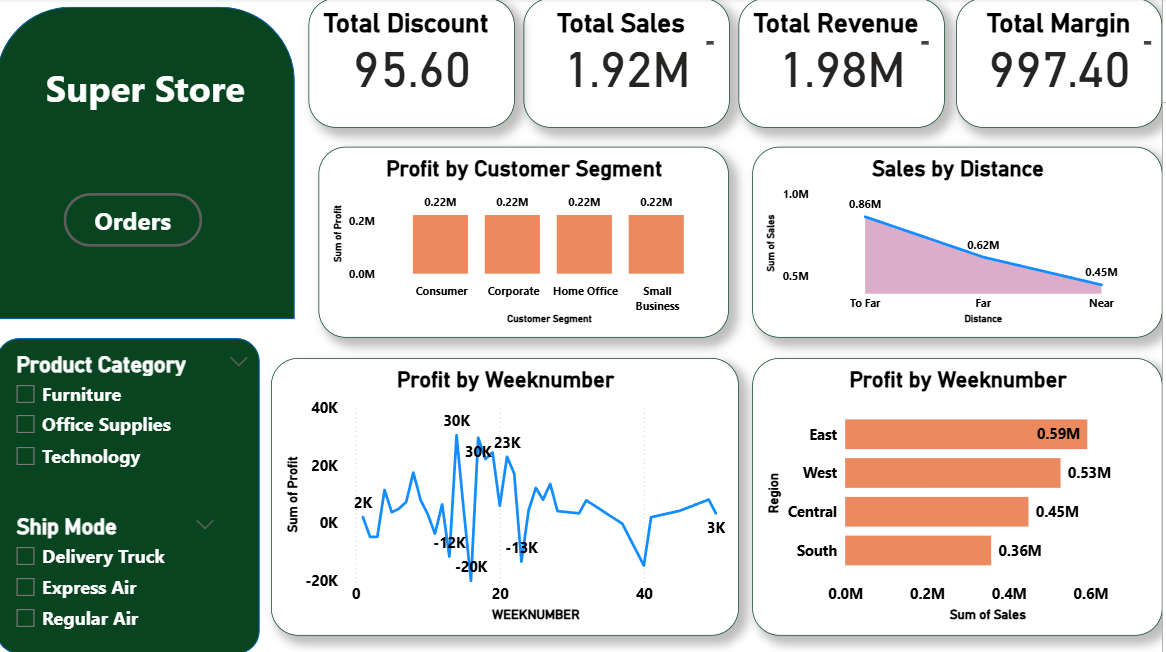

This screenshot's page, from the dashboard's own definition file:
{"tool":"powerbi","page":{"name":"Page 1","canvas":[1280,720],"ordinal":0},"visuals":[{"type":"shape","box":[0,373.2,289.5,347.2],"z":0},{"type":"card","fields":{"Values":["Orders.Totalsales"]},"box":[579.1,0,226.4,142.7],"z":1},{"type":"textbox","title":"Total Sales","box":[579.1,9.6,214.1,46.7],"z":2},{"type":"card","fields":{"Values":["Orders.Totalrevenue"]},"box":[815.1,0,226.4,142.7],"z":3},{"type":"textbox","title":"Total Revenue","box":[815.1,9.6,214.1,46.7],"z":4},{"type":"card","fields":{"Values":["Orders.Totalpromargin"]},"box":[1053.9,0,226.4,142.7],"z":5},{"type":"textbox","title":" Total Margin","box":[1059.4,9.6,214.1,46.7],"z":6},{"type":"card","fields":{"Values":["Orders.Total discount"]},"box":[343.1,0,226.4,142.7],"z":7},{"type":"textbox","title":"Total Discount","box":[343.1,9.6,214.1,32.9],"z":8},{"type":"slicer","fields":{"Values":["Orders.Ship Mode"]},"box":[9.6,561.2,242.9,159.2],"z":9},{"type":"slicer","fields":{"Values":["Table 1 (Orders).Product Category"]},"box":[9.6,382.8,279.9,150.9],"z":10},{"type":"shape","box":[0,9.6,328,343.1],"z":11},{"type":"textbox","title":"Super Store","box":[26.1,71.4,275.8,101.5],"z":12},{"type":"actionButton","box":[74.1,214.1,152.3,59],"z":13},{"type":"columnChart","title":"Profit by Customer Segment","fields":{"Category":["Table 1 (Orders).Customer Segment"],"Y":["Sum(Orders.Profit)"]},"box":[354,163.3,450.1,209.9],"z":14},{"type":"areaChart","title":"Sales by Distance","fields":{"Category":["Orders.Distance"],"Y":["Sum(Orders.Sales)"]},"box":[830.2,163.3,450.1,209.9],"z":15},{"type":"lineChart","title":"Profit by Weeknumber","fields":{"Y":["Sum(Orders.Profit)"],"Category":["Orders.WEEKNUMBER"]},"box":[301.9,395.2,513.2,304.6],"z":16},{"type":"clusteredBarChart","title":"Sales by Region","fields":{"Y":["Sum(Orders.Sales)"],"Category":["Orders.Region"]},"box":[830.2,395.2,450.1,304.6],"z":17}]}

Visuals, with their boxes in screenshot pixels (x1, y1, x2, y2), scaled from the page's 1280x720 canvas onto the 1166x652 screenshot:
shape: 0/338/264/651
card - Orders.Totalsales: 528/0/734/129
"Total Sales" textbox: 528/9/723/51
card - Orders.Totalrevenue: 743/0/949/129
"Total Revenue" textbox: 743/9/938/51
card - Orders.Totalpromargin: 960/0/1165/129
" Total Margin" textbox: 965/9/1160/51
card - Orders.Total discount: 313/0/519/129
"Total Discount" textbox: 313/9/508/38
slicer - Orders.Ship Mode: 9/508/230/651
slicer - Table 1 (Orders).Product Category: 9/347/264/483
shape: 0/9/299/319
"Super Store" textbox: 24/65/275/157
actionButton: 68/194/206/247
"Profit by Customer Segment" columnChart: 322/148/732/338
"Sales by Distance" areaChart: 756/148/1165/338
"Profit by Weeknumber" lineChart: 275/358/743/634
"Sales by Region" clusteredBarChart: 756/358/1165/634
